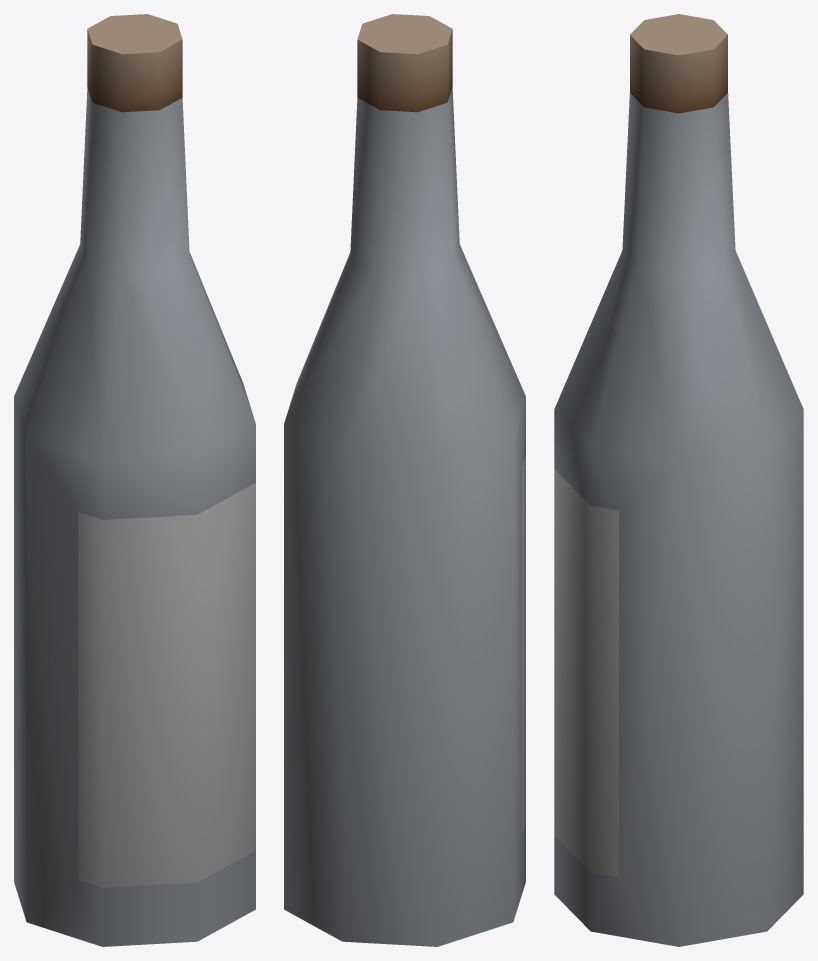
File: SM_Vodka.fbx
The picture shows the model from 3 angles, left to right: view 1: azimuth 30°, elevation 25°; view 2: azimuth 150°, elevation 25°; view 3: azimuth 270°, elevation 25°; orthographic projection.
Visible parts, largest first — view 1: SM_Vodka; view 2: SM_Vodka; view 3: SM_Vodka.
Boxes of the visible parts, x1,y1,x2,y2 form: SM_Vodka: (14,14,255,946); SM_Vodka: (284,14,525,946); SM_Vodka: (554,14,803,946).
Bounding box in the file's own units: 52.58 × 200 × 52.58.
